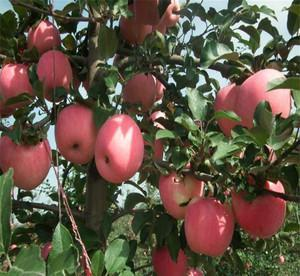apple: (215, 68, 292, 131), (94, 112, 143, 182), (233, 172, 286, 235), (185, 194, 234, 258), (1, 134, 52, 190), (54, 105, 98, 165), (160, 169, 203, 218), (1, 63, 36, 110), (37, 51, 72, 98), (122, 71, 160, 111), (28, 19, 61, 55)
